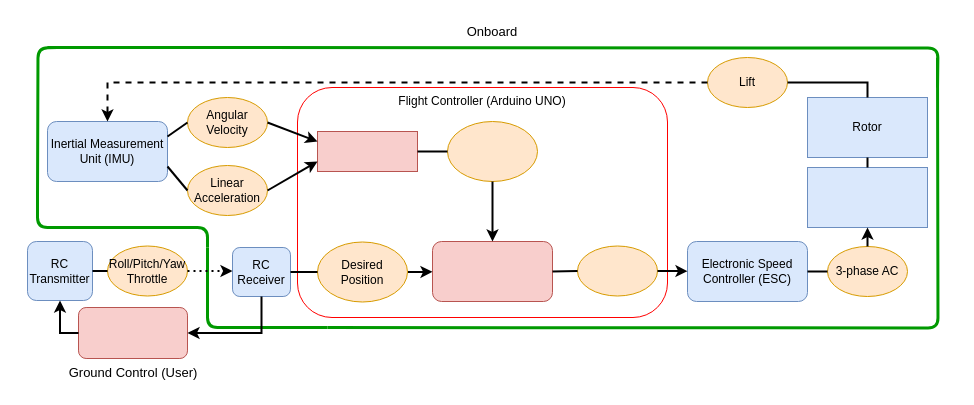
This 974x405 diagram has some shape labels left out. The shapes that lost their labels are listed below. From the top down, each one's centre as x and y in pixels, then its label:
the point at 367,151: Complementary Filter
the point at 492,151: Current Orientation
the point at 867,197: Motor
the point at 492,271: PID Controller
the point at 617,270: Desired Motor Speed
the point at 133,332: Fail-Safe Program
